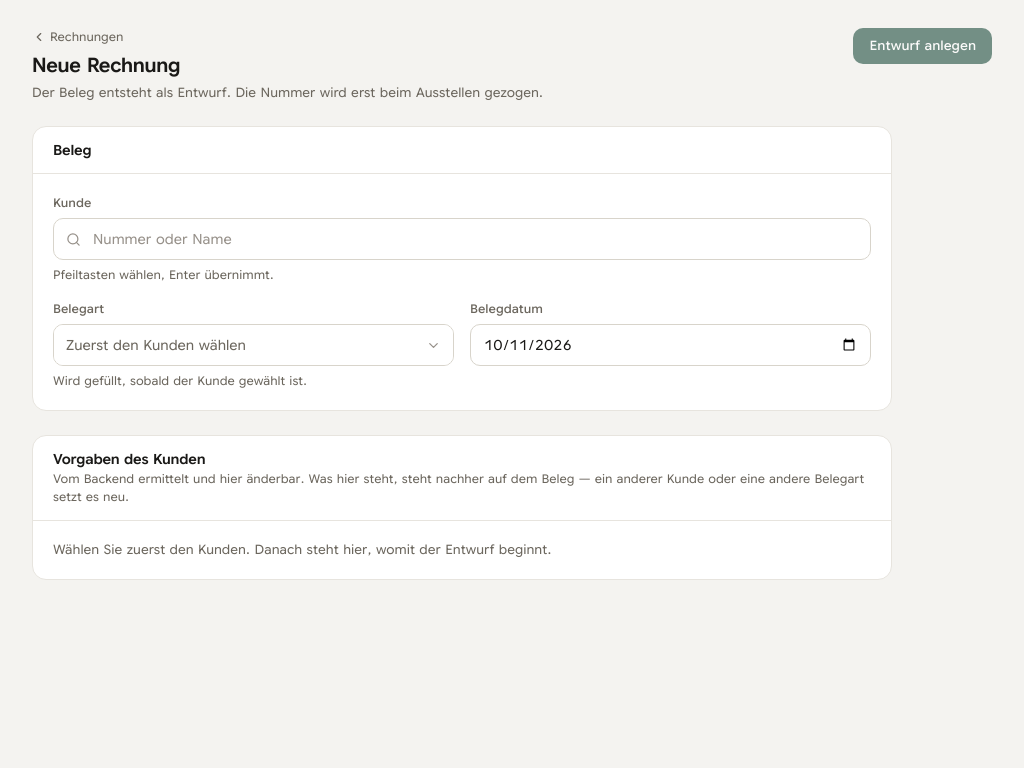
Test: NewDocumentMask › newDocumentMaskFillsTheKindFromTheCustomerTest
The width and height of the screenshot is (1024, 768).
In the dropdown labelled "Kunde": (476, 239) [81,219,870,259], type "Meier"
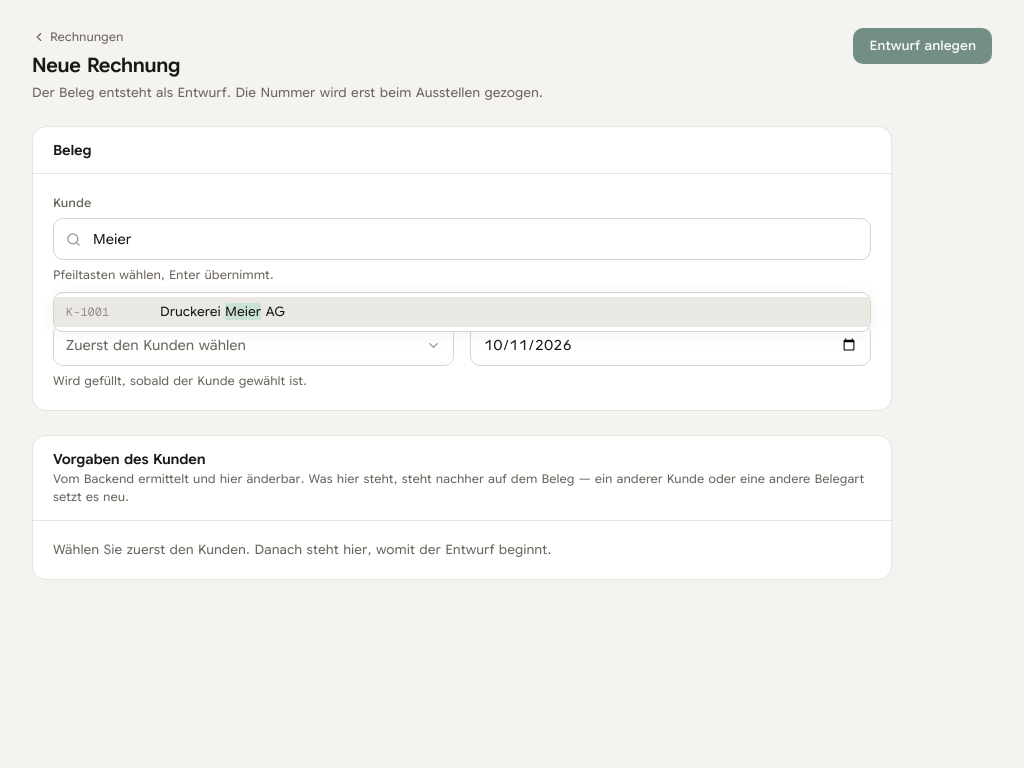
Click the option "K-1001 Druckerei Meier AG": (88, 312) [54,297,870,327]
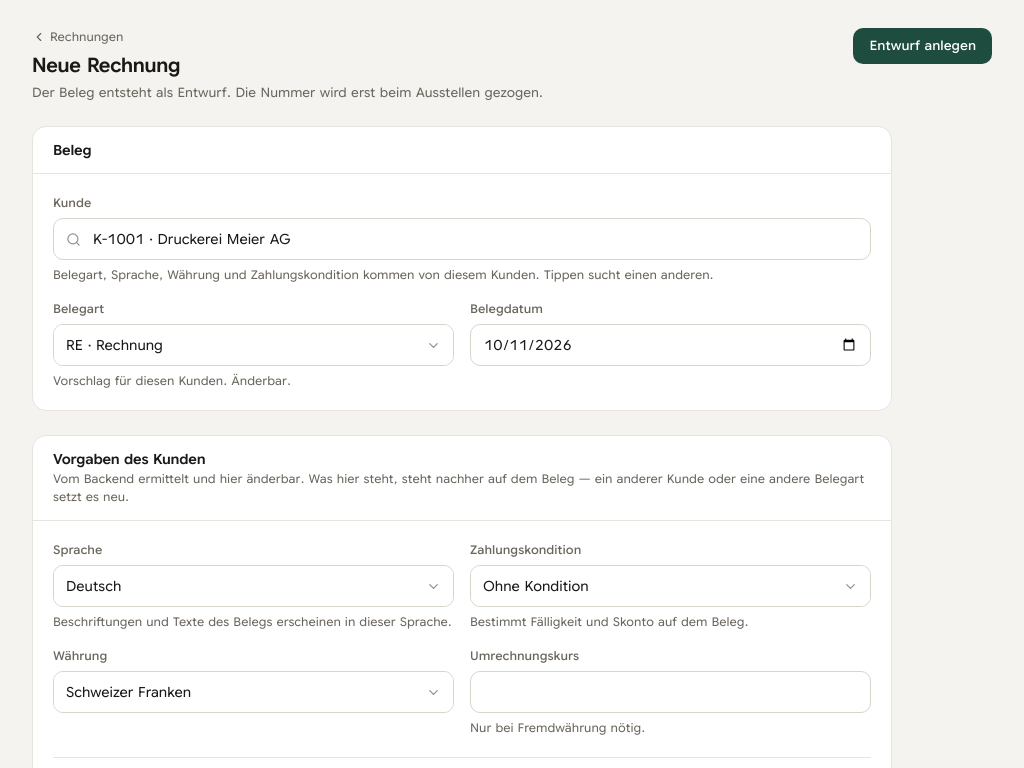
Expected: the text "Vorschlag für diesen Kunden" is shown, [53,373,291,388]
